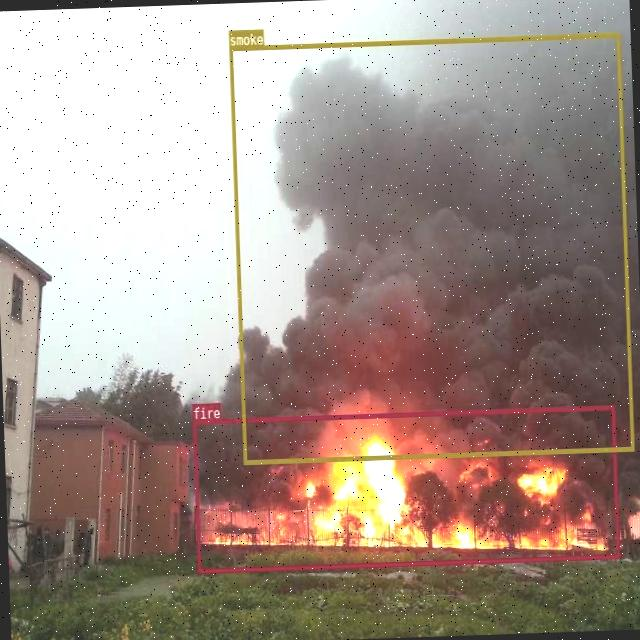fire: (192, 404, 619, 572)
smoke: (228, 31, 633, 462)
